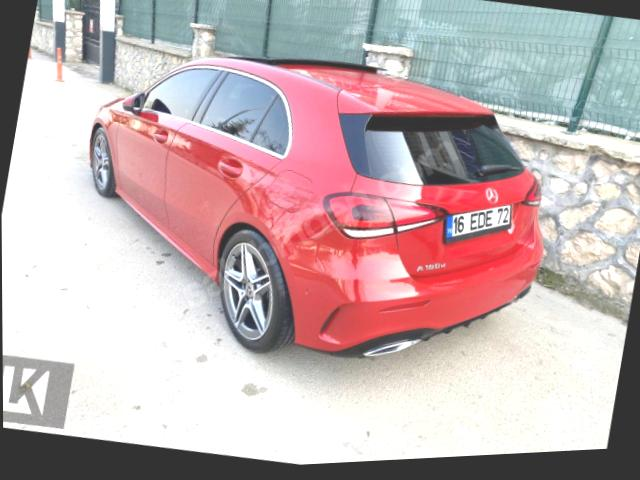plaka: (446, 204, 511, 241)
